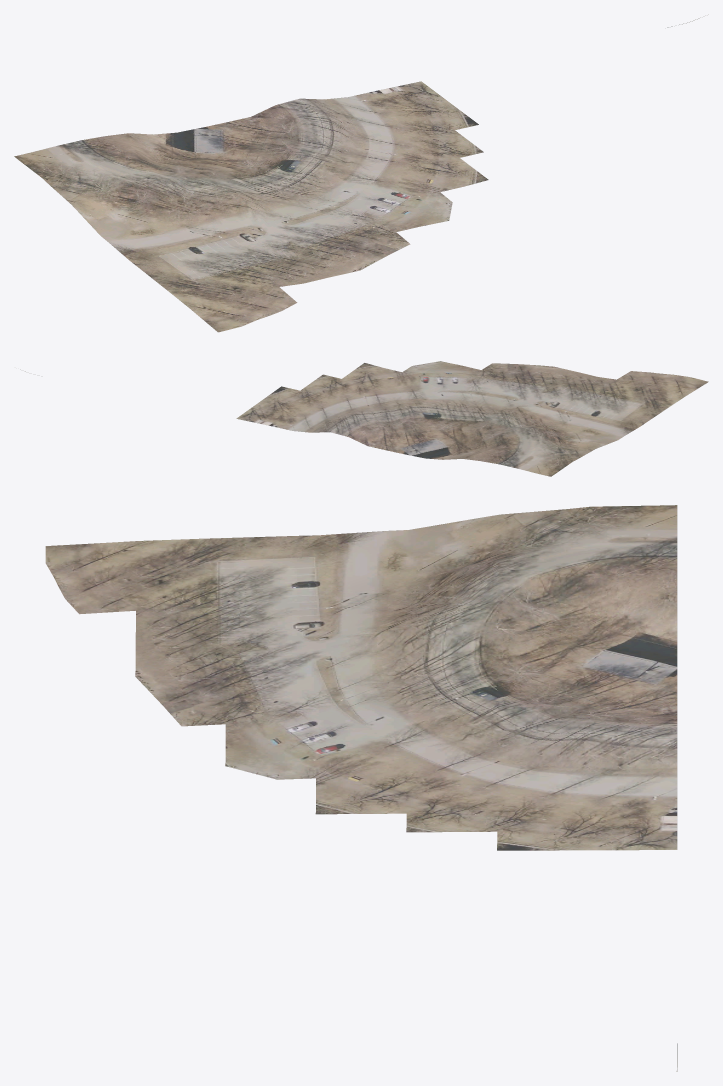
File: CM_Terrain_24486978_6819999.fbx
3 views of the same model, one above another, from view 1: azimuth 30°, elevation 25°; view 2: azimuth 150°, elevation 25°; view 3: azimuth 270°, elevation 25° (orthographic). The views are drawn at different scales.
Parts seen in each view (by area): view 1: CM_Terrain_24486978_6819999_LOD0; view 2: CM_Terrain_24486978_6819999_LOD0; view 3: CM_Terrain_24486978_6819999_LOD0.
Boxes of the visible parts, x1=… form: CM_Terrain_24486978_6819999_LOD0: x1=14, y1=14, x2=708, y2=332; CM_Terrain_24486978_6819999_LOD0: x1=20, y1=361, x2=708, y2=476; CM_Terrain_24486978_6819999_LOD0: x1=45, y1=505, x2=677, y2=1071.
Size of what is drawn, in the model's own units: 205 by 8.68 by 104.
